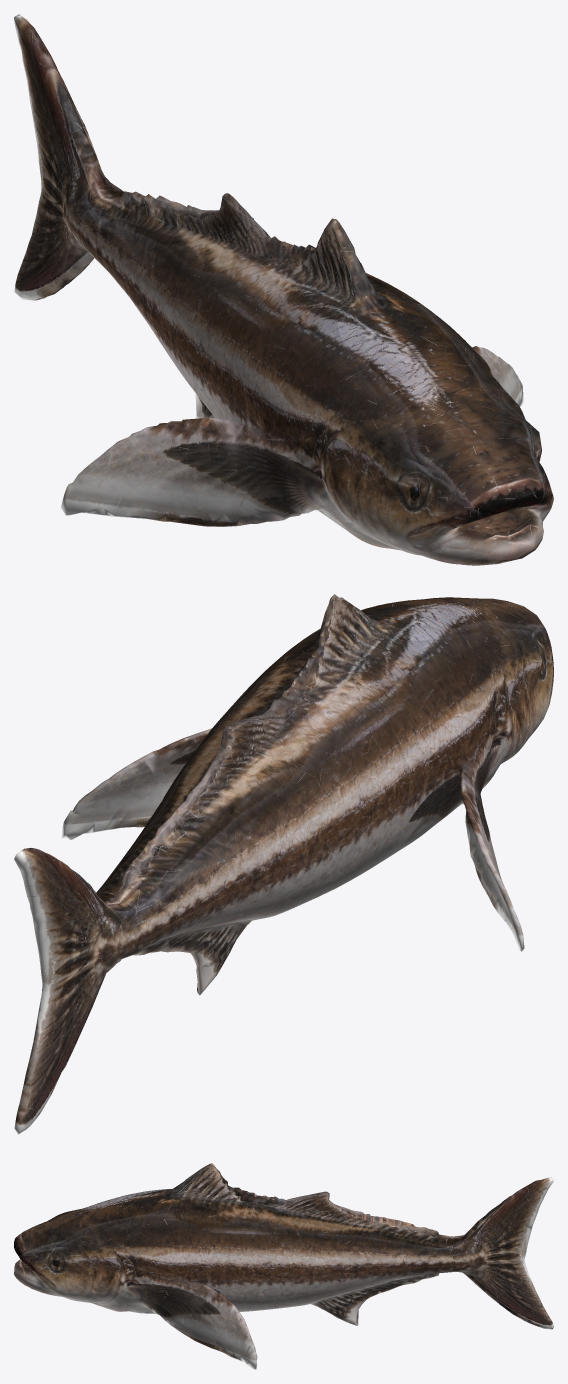
The model's file is fish_cobia.glb.
3 renders of one model, top to bottom at view 1: azimuth 30°, elevation 25°; view 2: azimuth 150°, elevation 25°; view 3: azimuth 270°, elevation 25°, orthographic. The views are drawn at different scales.
Parts seen in each view (by area): view 1: geometry_0; view 2: geometry_0; view 3: geometry_0.
Boxes of the visible parts, x1=… form: geometry_0: x1=14, y1=14, x2=553, y2=565; geometry_0: x1=14, y1=594, x2=553, y2=1134; geometry_0: x1=14, y1=1163, x2=553, y2=1369.
Size of the model in its own units: 1.04 by 0.6655 by 1.96.
Materials: 1 (1 with a texture image).
